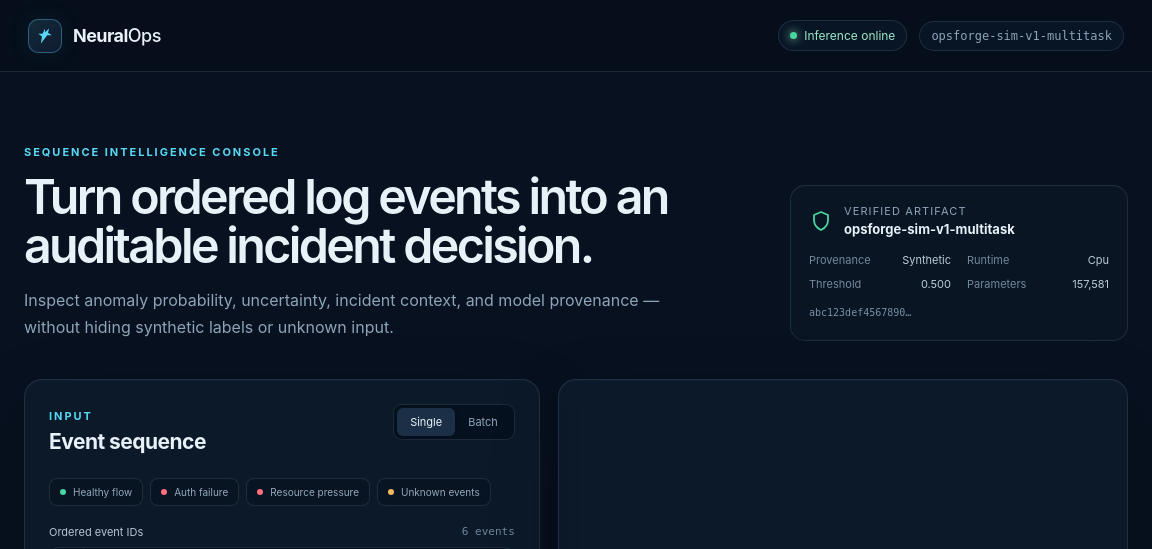
Test: NeuralOps console › loads a sample and renders the API decision and diagnostics
Click the button "Auth failure" at (195, 492), box [150, 478, 239, 506]
(page scrolled)
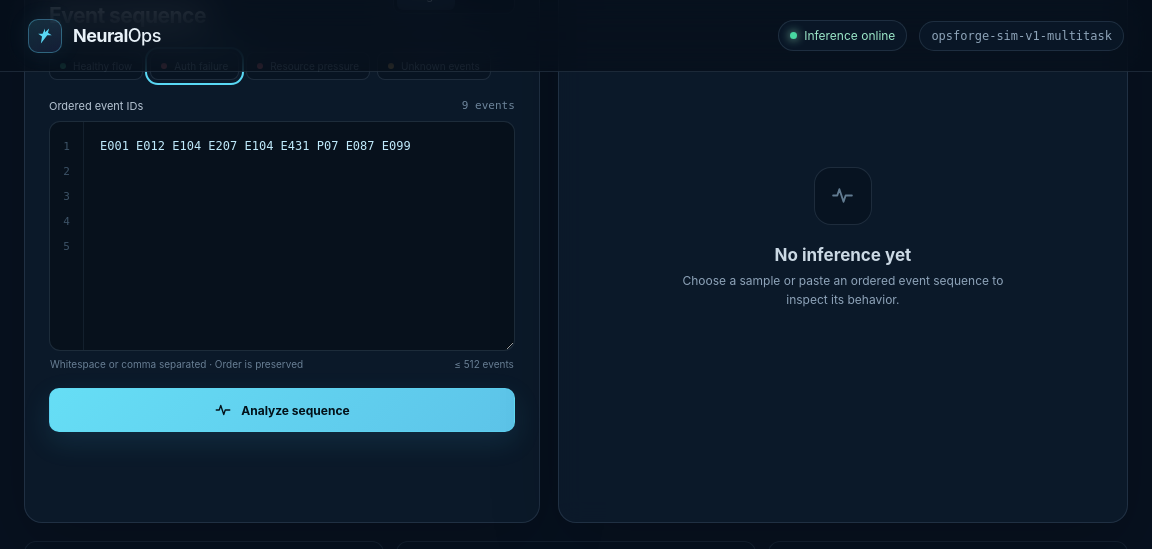
Click the button "Analyze sequence" at (282, 410), box [49, 388, 515, 432]
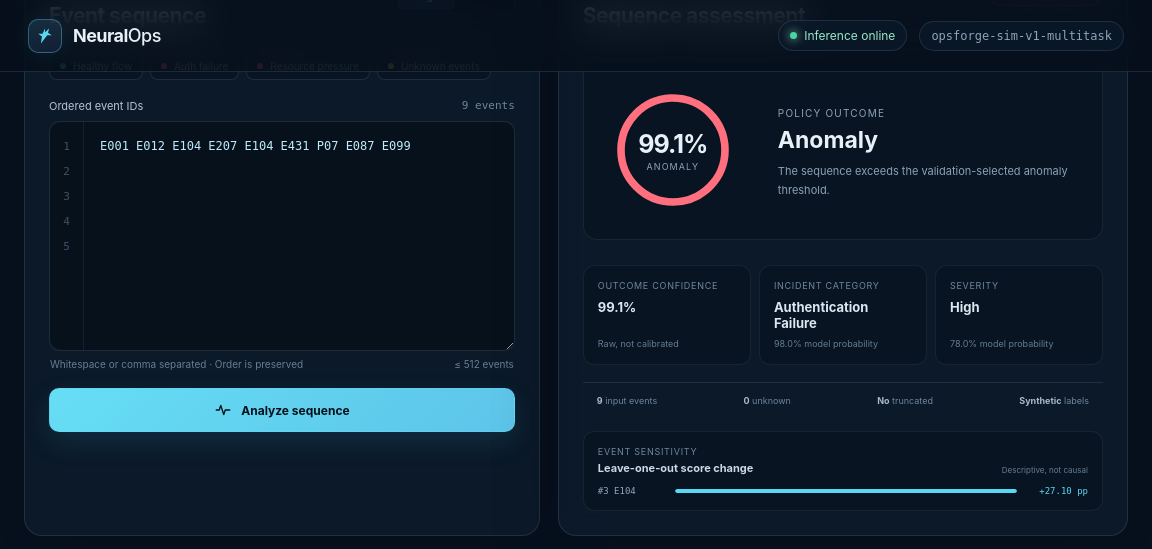
Now the text "Authentication Failure" is shown, box [774, 299, 868, 331]
Now the text "99.1%" is shown 2 times, box [638, 129, 707, 159]; [598, 299, 636, 315]
Now the text "Synthetic" is shown, box [1019, 395, 1062, 406]
